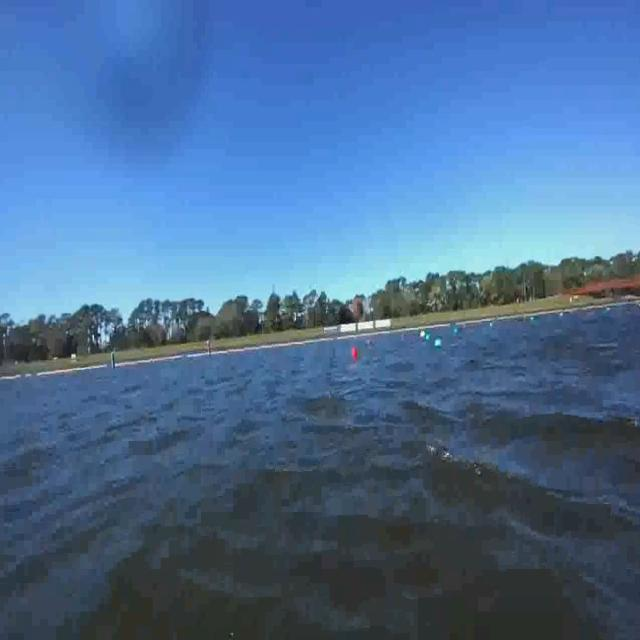green-buoy: (434, 339, 442, 350)
red-buoy: (353, 346, 358, 361)
